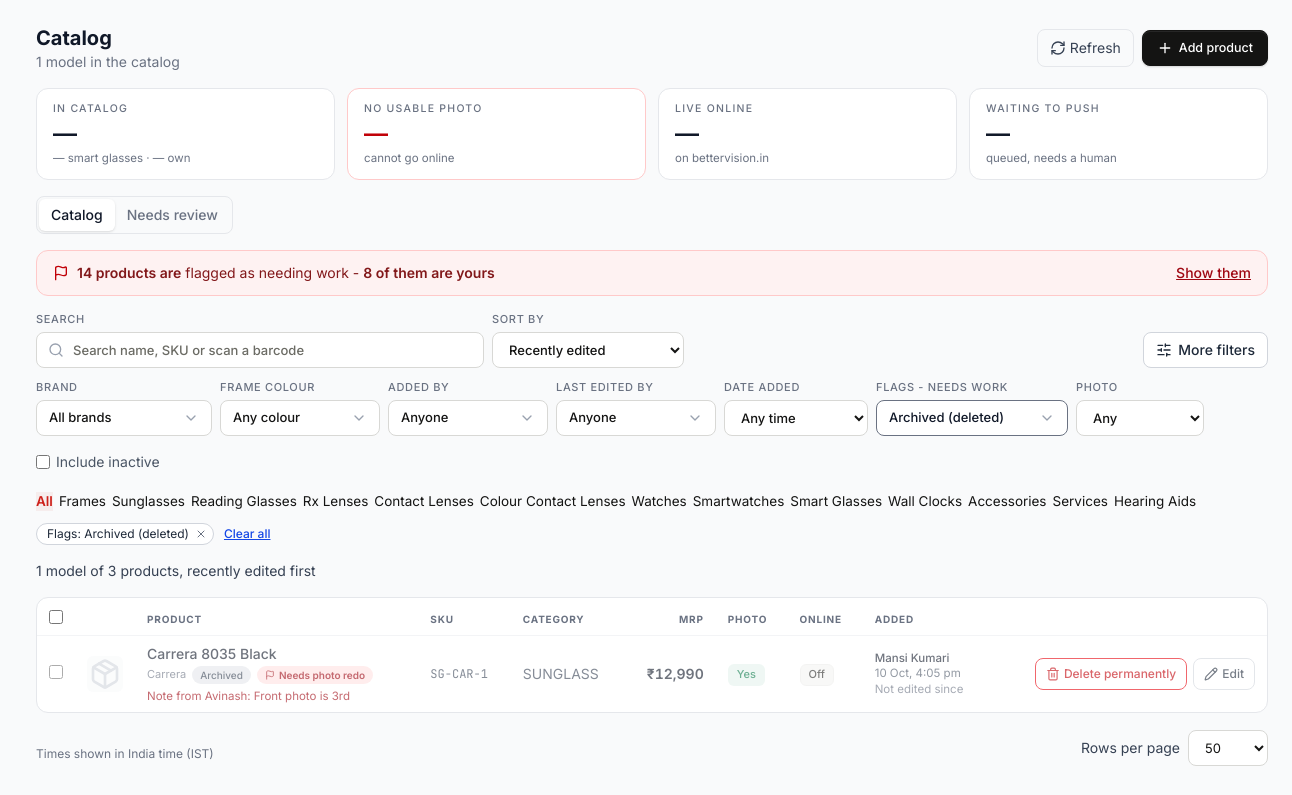
Test case: who sees which bulk button › Delete permanently on an archived row and the bar: ["SUPERADMIN"] sees 2
Expected: the table with test id "catalog-table" is shown, [37,598,1267,712]
Click the checkbox named "Select Carrera 8035 Black".
click(56, 673)  # box [49,666,63,680]
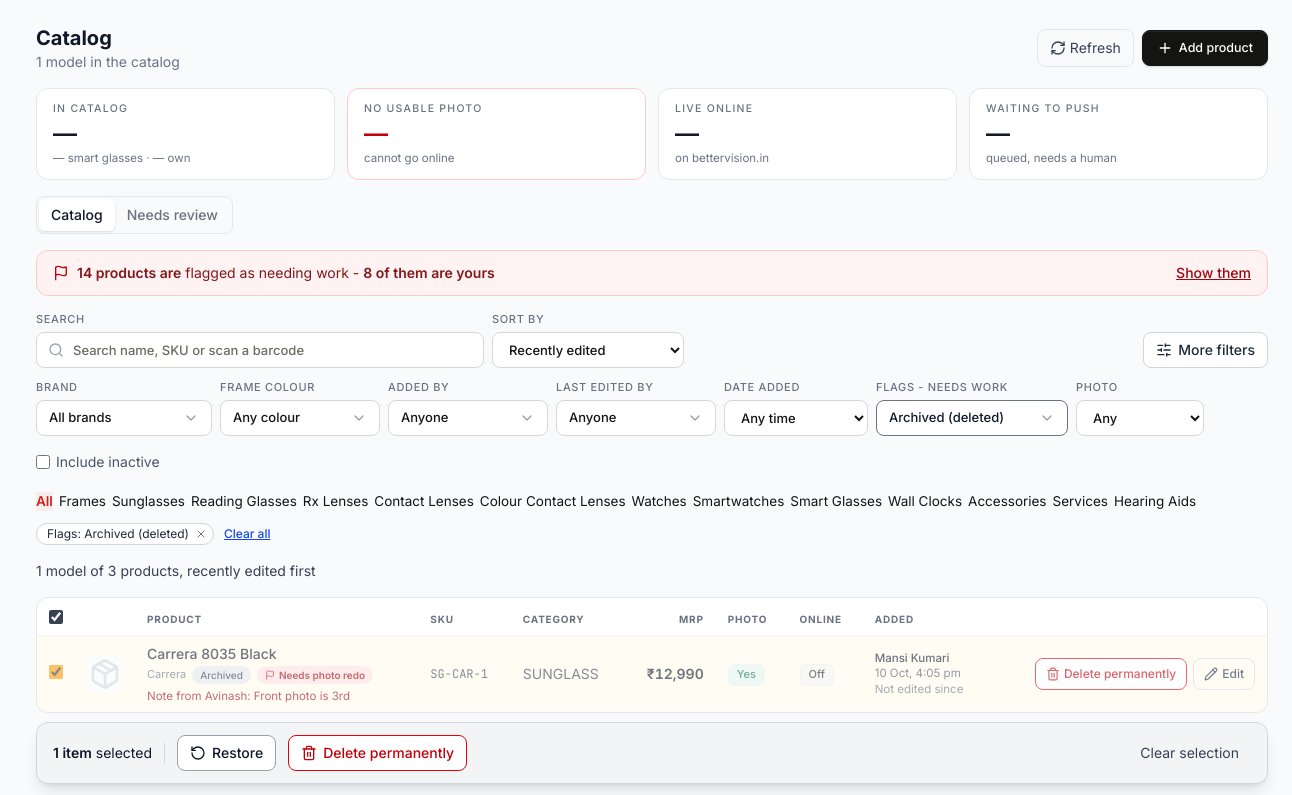
Expected: the button "Edit" is shown, [1193,659,1255,691]
Now the button "Restore" is shown, box [177,735,276,771]
Now the number of buttons "Delete permanently" is 2, box [1035,659,1187,691]; [288,735,467,771]
